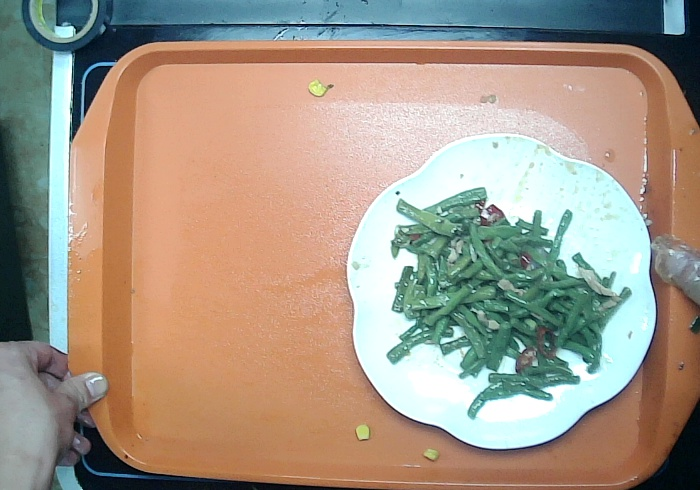HZYJPL-Bai_Se_Hua_Duo_Wan: (339, 129, 663, 453)
